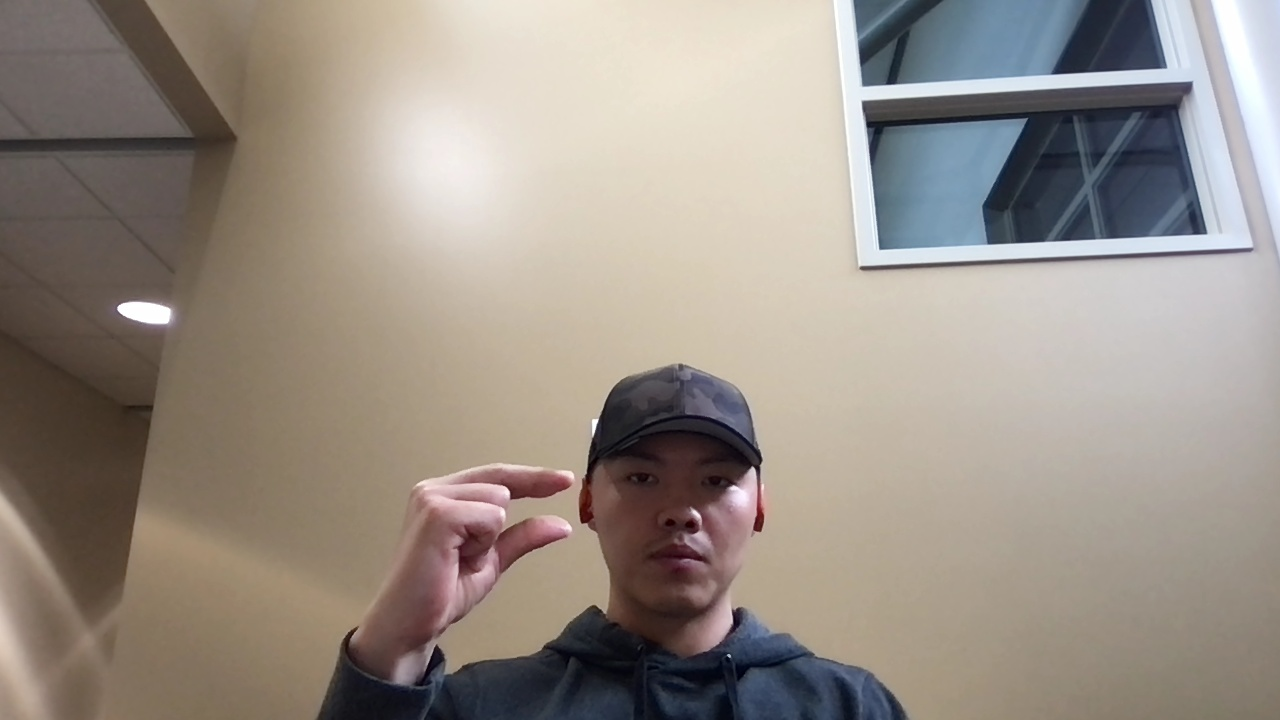No: (363, 459, 575, 661)
